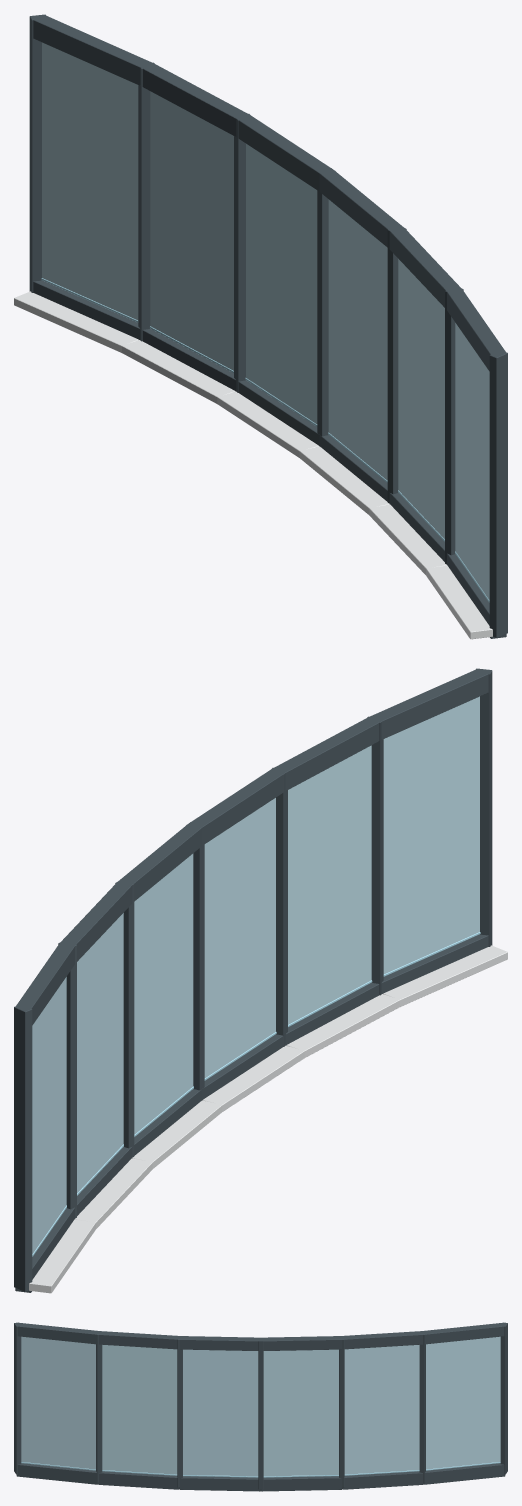
The model's file is SM_Bridge_Viewport.fbx.
The picture shows the model from 3 angles, top to bottom: view 1: azimuth 30°, elevation 25°; view 2: azimuth 150°, elevation 25°; view 3: azimuth 270°, elevation 25°; orthographic projection. The views are drawn at different scales.
Visible parts, largest first — view 1: SM_Bridge_Viewport; view 2: SM_Bridge_Viewport; view 3: SM_Bridge_Viewport.
Boxes of the visible parts, <box> form: SM_Bridge_Viewport: <box>14,14,507,639</box>; SM_Bridge_Viewport: <box>14,668,507,1293</box>; SM_Bridge_Viewport: <box>14,1322,507,1491</box>.
Bounding box in the file's own units: 254 × 750 × 2234.
